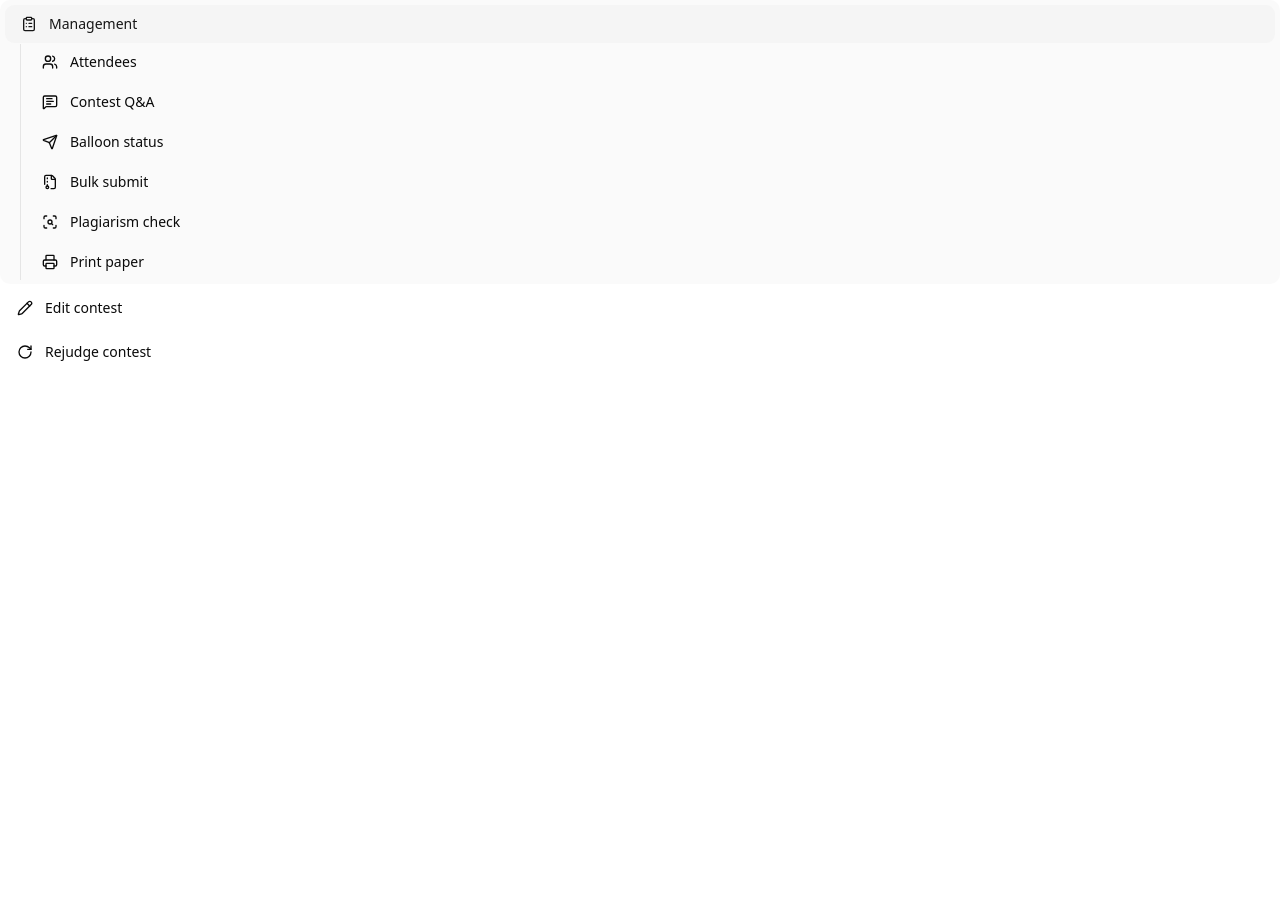
contest rejudge › shows backend failures and allows retrying without reporting success
Click the button "Rejudge contest" at [98, 352], box [0,332,1279,372]
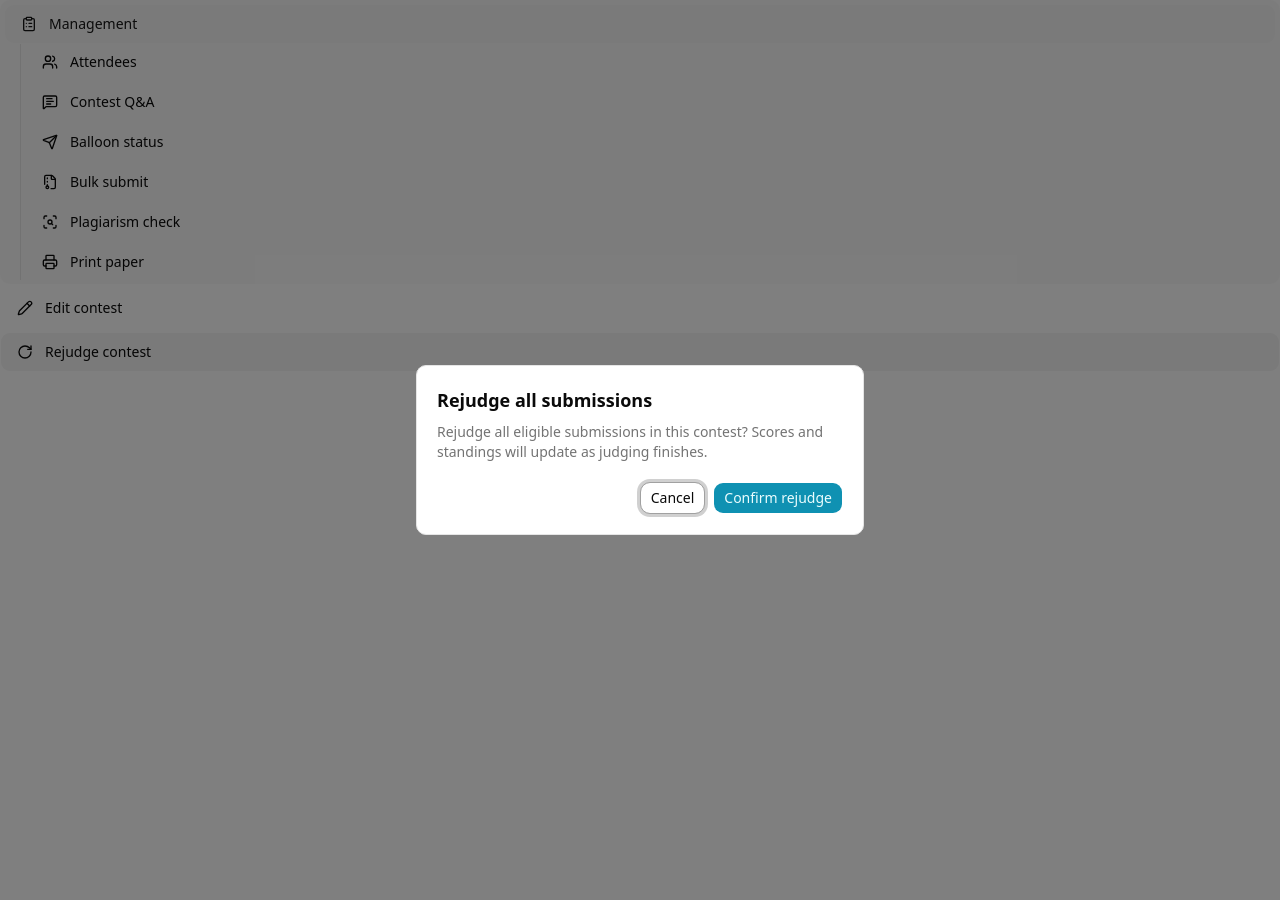
Click the button "Confirm rejudge" at [778, 498], box [713,482,843,514]
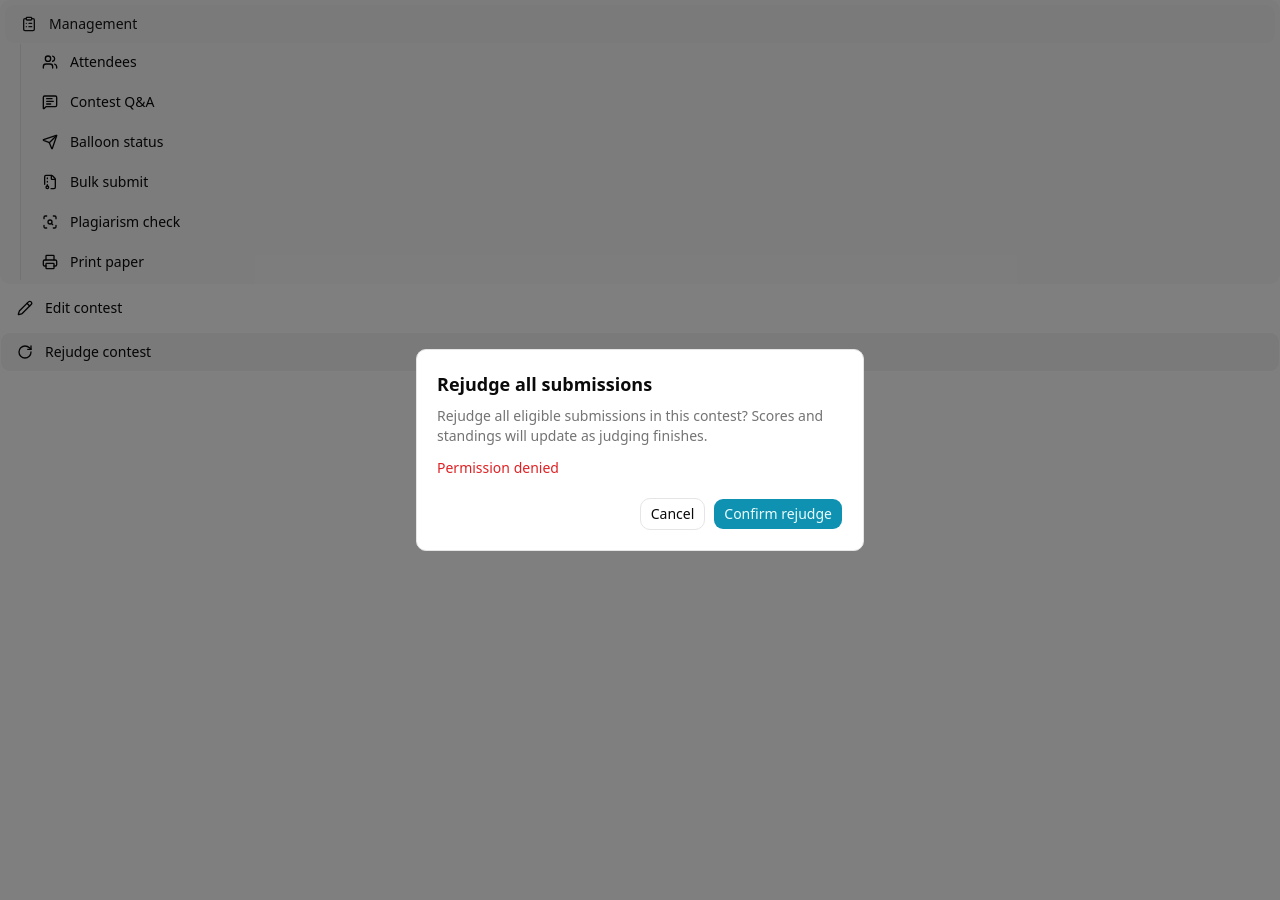
Expected: the button "Confirm rejudge" is enabled, [713,498,843,530]
Expected: the message reads "Permission denied", [437,458,559,477]
